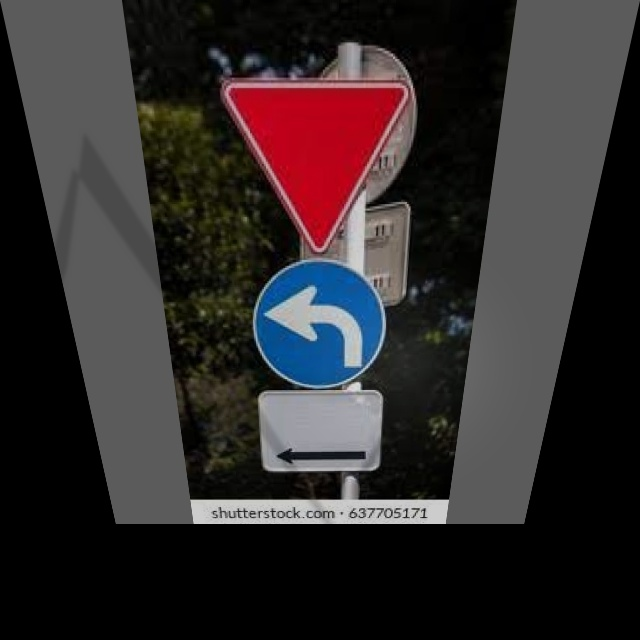Compulsory_Turn_Left_Ahead: (250, 262, 391, 387)
